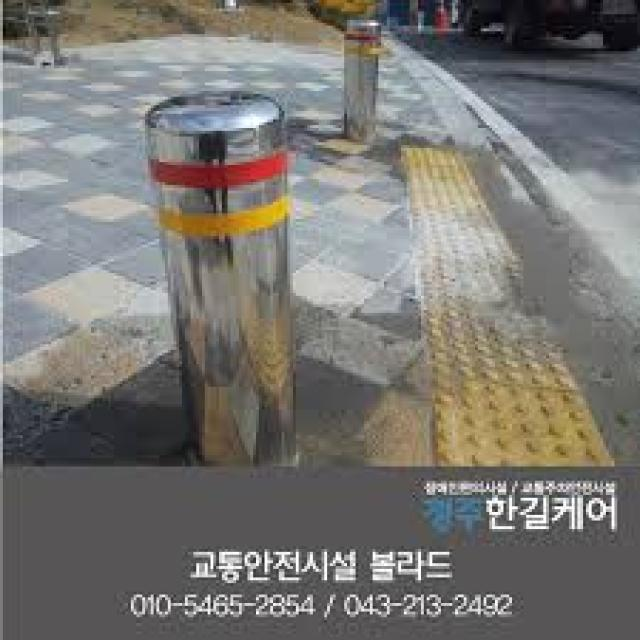bollard: (142, 87, 319, 466), (335, 13, 385, 146)
